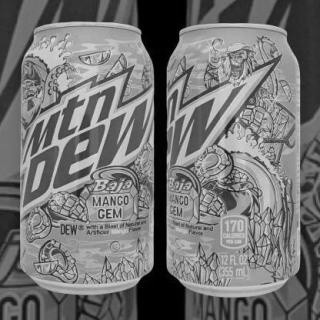alumunium_can: (162, 20, 304, 295), (20, 18, 161, 294)
